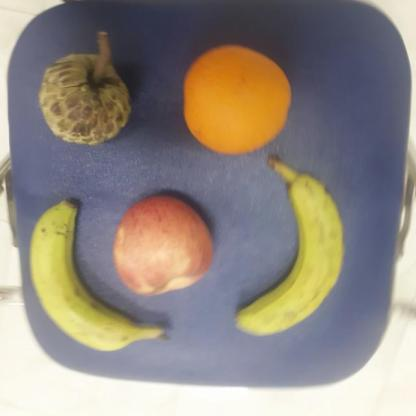annona: (34, 54, 136, 146)
apple: (109, 192, 213, 300)
banana: (232, 173, 348, 342), (26, 195, 138, 356)
orange: (183, 45, 295, 160)
